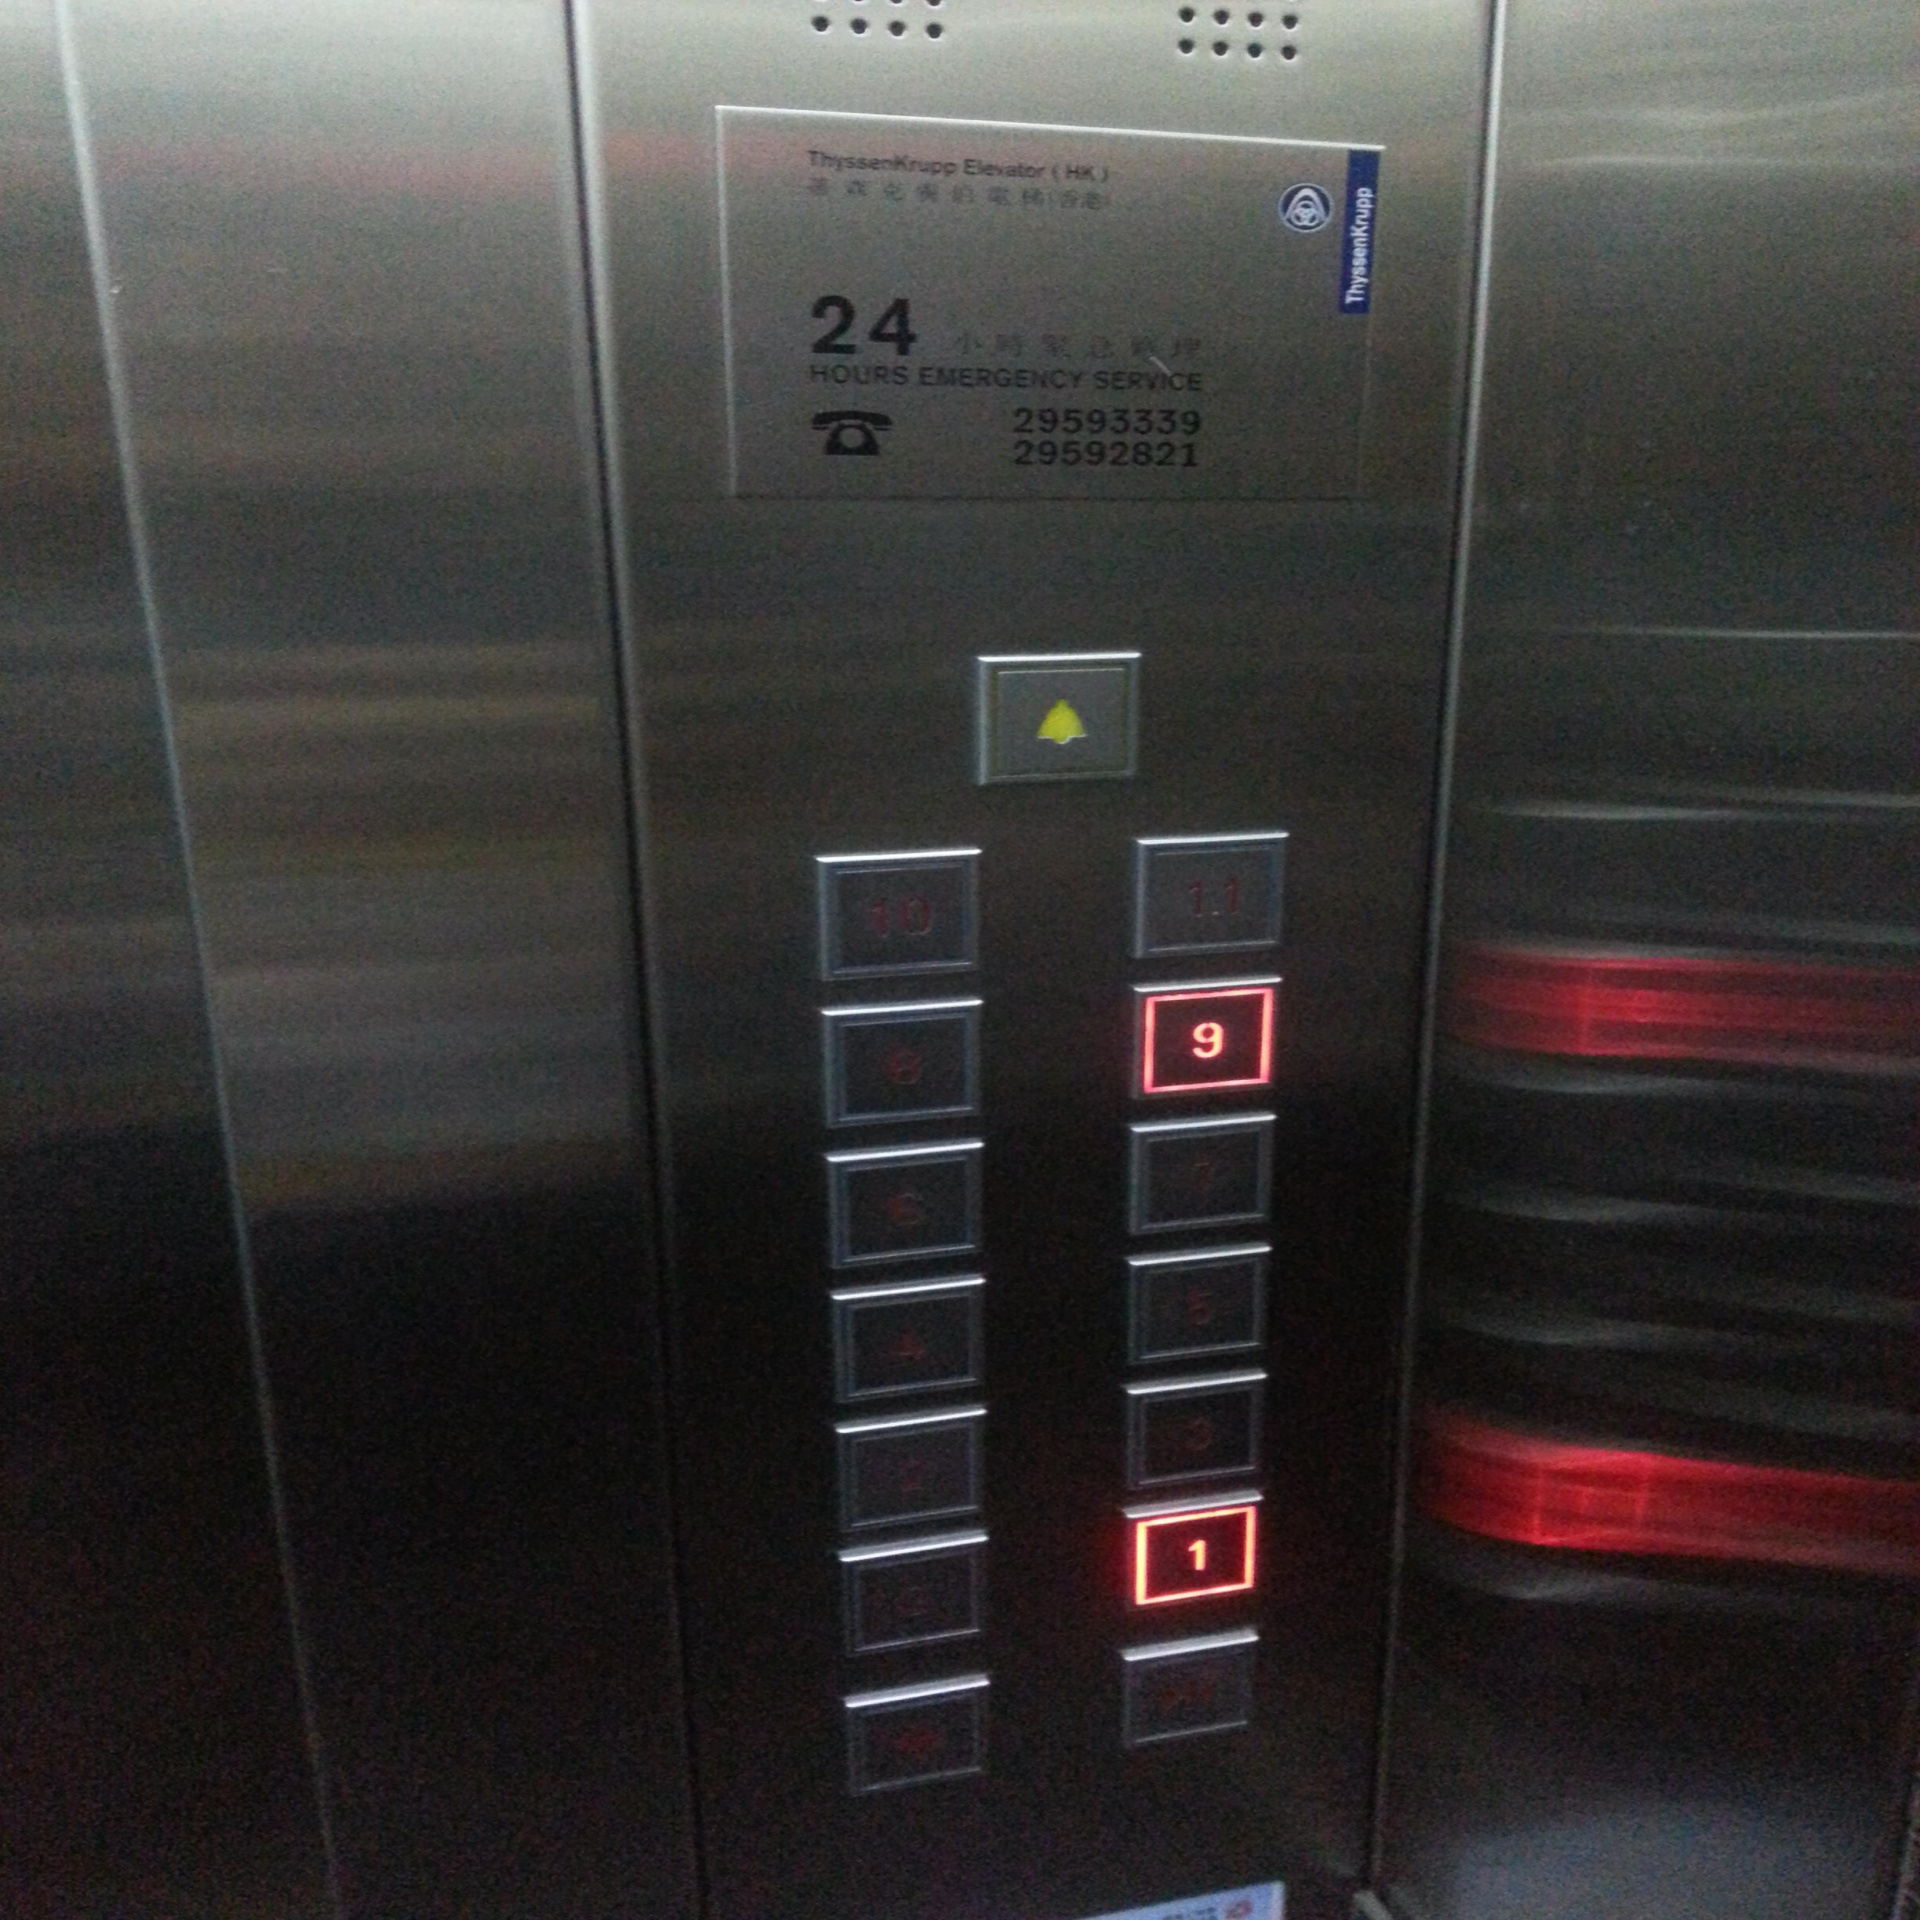1: (1116, 1491, 1269, 1619)
10: (811, 844, 986, 985)
11: (1125, 826, 1292, 965)
3: (1116, 1368, 1268, 1491)
5: (1118, 1245, 1273, 1373)
6: (819, 1138, 988, 1271)
8: (812, 997, 995, 1132)
9: (1125, 971, 1289, 1108)
alarm: (964, 647, 1150, 791)
blur: (823, 1405, 993, 1533), (823, 1275, 990, 1405), (833, 1672, 988, 1807), (1122, 1111, 1278, 1241), (832, 1540, 992, 1663)
close: (1109, 1625, 1268, 1755)
